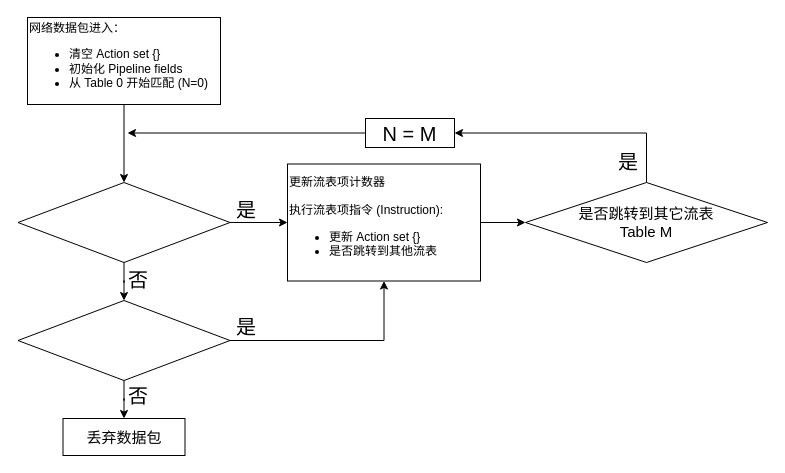
The diagram is 785 pixels wide and 473 high, and some of its shapes have lost their labels. The shapes that lost their labels are listed below. From the top down, each one's centre as x and y in pixels, then its label:
At point (123, 222): "在 Table N 中 匹配到流表项".
At point (123, 340): "有 Table-miss 流表项？".
